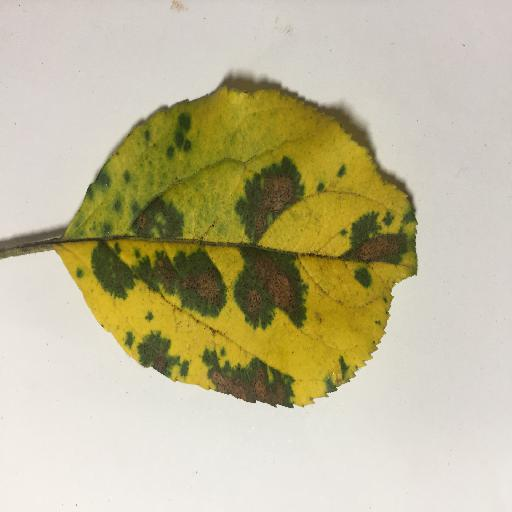Brown_Spot: (228, 256, 294, 317), (211, 359, 296, 404), (241, 173, 298, 237), (135, 254, 214, 298), (344, 226, 414, 266), (136, 210, 195, 232), (148, 353, 169, 368)
